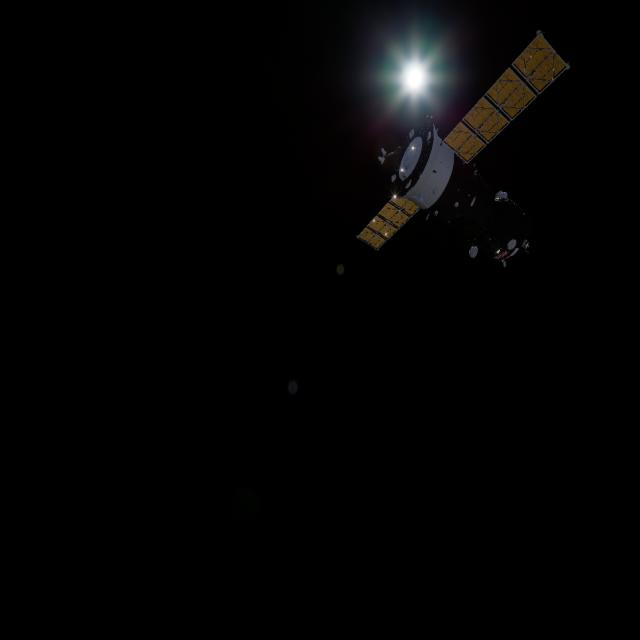Satellites revolving around earth: (354, 27, 572, 270)
